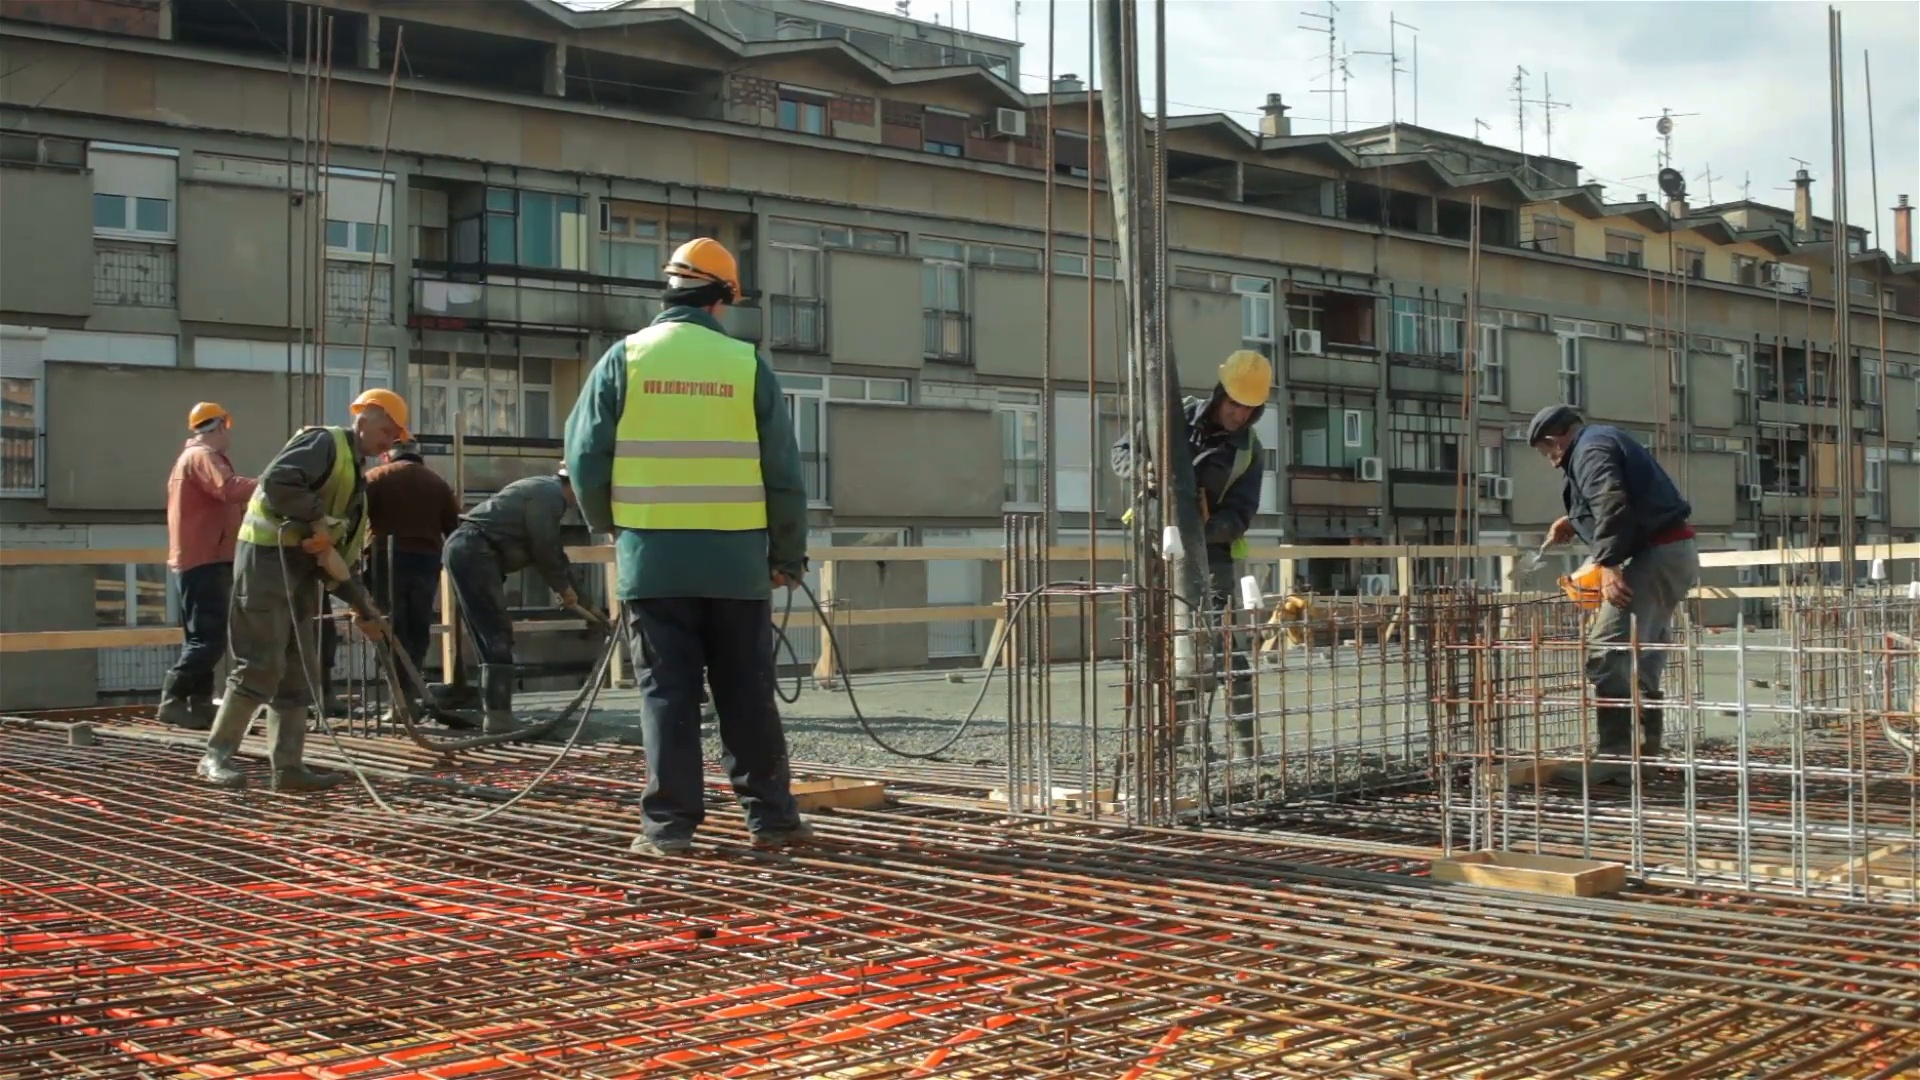none: (1528, 400, 1578, 463)
yellow: (662, 235, 738, 318), (1209, 349, 1271, 429), (349, 388, 407, 458), (186, 398, 231, 448)
